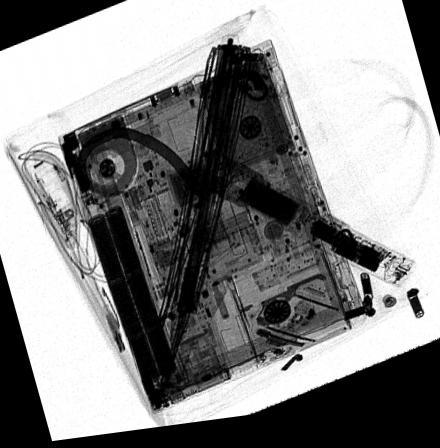Baton: (193, 153, 418, 300)
